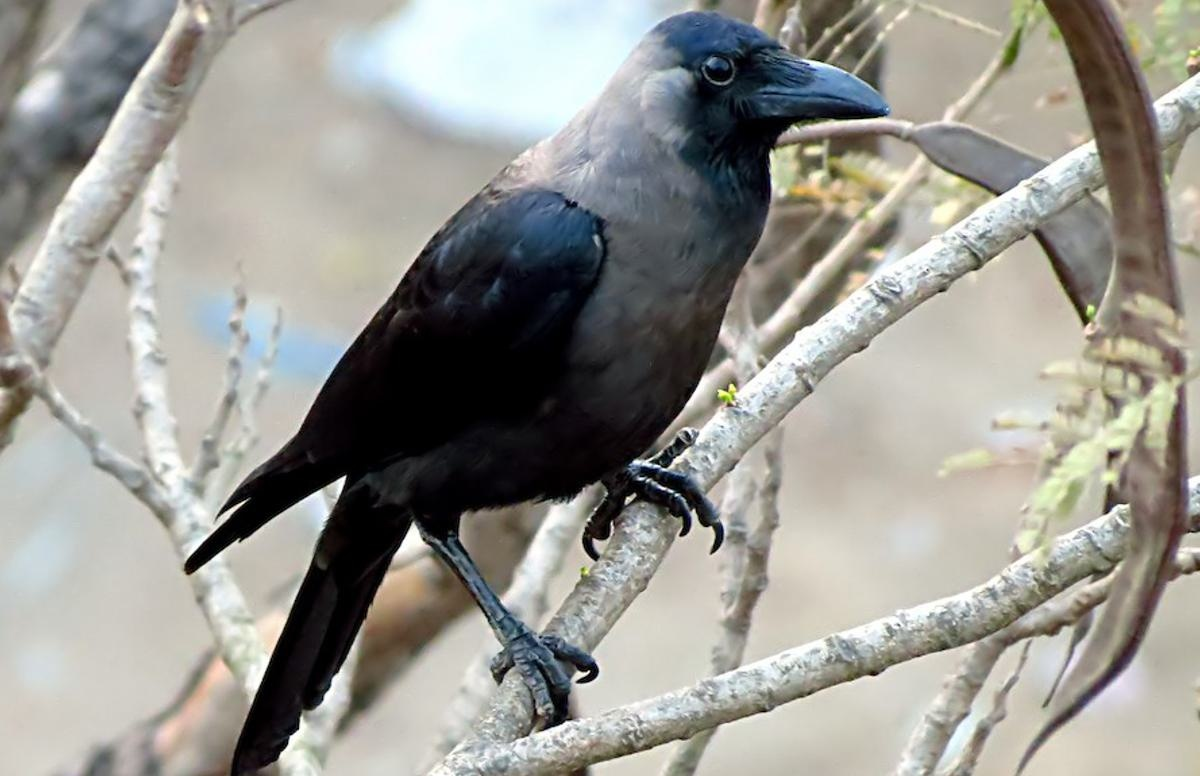crow: (198, 14, 875, 752)
